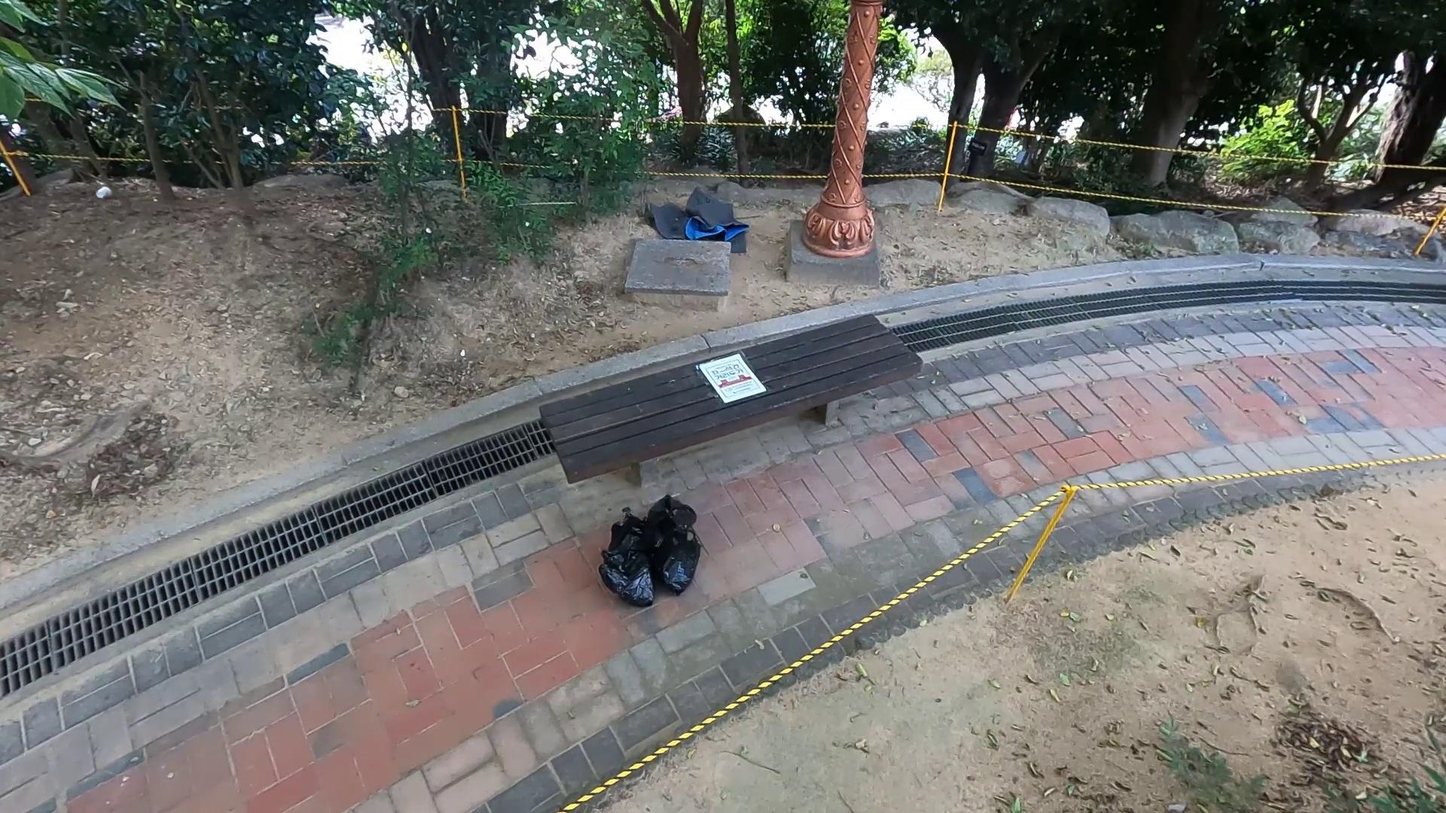trash: (645, 177, 748, 254), (592, 536, 658, 609), (638, 493, 699, 551), (655, 525, 702, 596), (608, 505, 661, 565)
